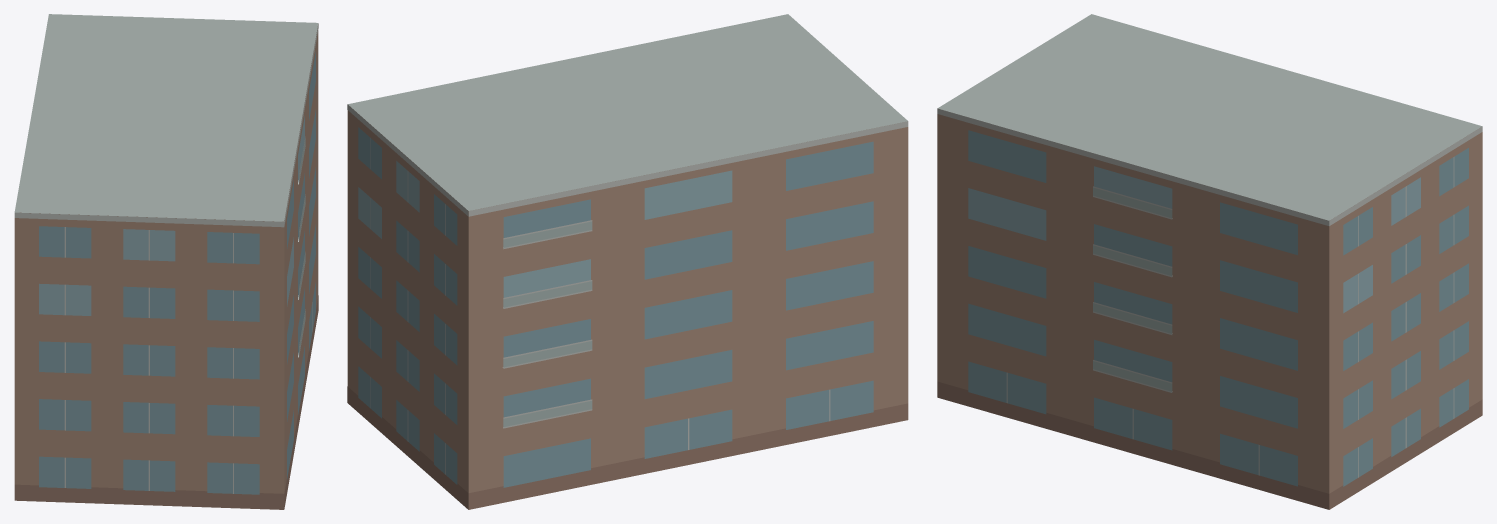
The model's file is survey-upis-33009863.glb.
The picture shows the model from 3 angles, left to right: view 1: azimuth 30°, elevation 25°; view 2: azimuth 150°, elevation 25°; view 3: azimuth 270°, elevation 25°; orthographic projection. The views are drawn at different scales.
Parts seen in each view (by area): view 1: survey-upis-33009863.tmp; view 2: survey-upis-33009863.tmp; view 3: survey-upis-33009863.tmp.
Boxes of the visible parts, <box> form: survey-upis-33009863.tmp: <box>14,14,318,509</box>; survey-upis-33009863.tmp: <box>347,14,908,509</box>; survey-upis-33009863.tmp: <box>937,14,1482,509</box>.
Bounding box in the file's own units: 19.8 × 12.9 × 22.06.
